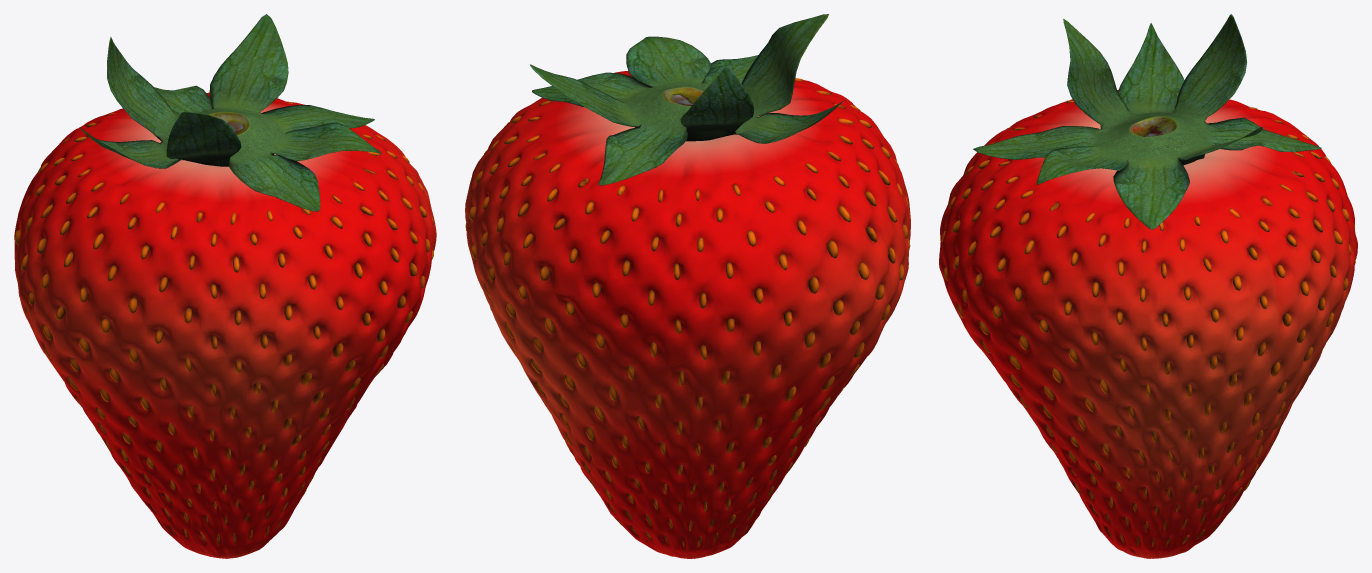
File: caomei.fbx
3 renders of one model, left to right at view 1: azimuth 30°, elevation 25°; view 2: azimuth 150°, elevation 25°; view 3: azimuth 270°, elevation 25°, orthographic. The views are drawn at different scales.
Visible parts, largest first — view 1: Object01; view 2: Object01; view 3: Object01.
Boxes of the visible parts, x1=… form: Object01: x1=14, y1=14, x2=436, y2=558; Object01: x1=465, y1=14, x2=910, y2=558; Object01: x1=939, y1=14, x2=1357, y2=558.
Size of the model in its own units: 14.58 by 18.43 by 13.94.
